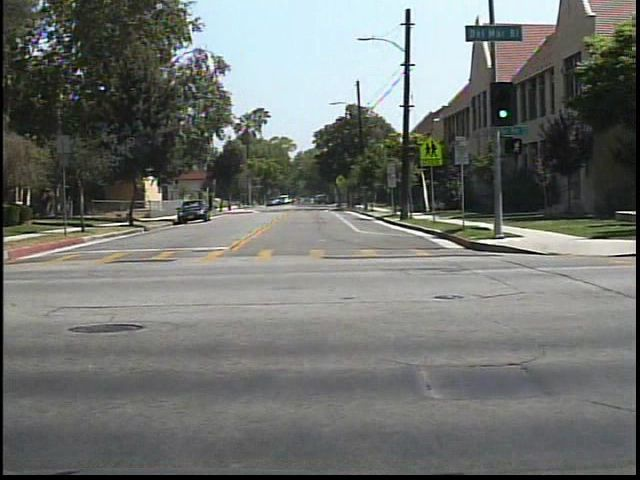person: (292, 191, 307, 209)
